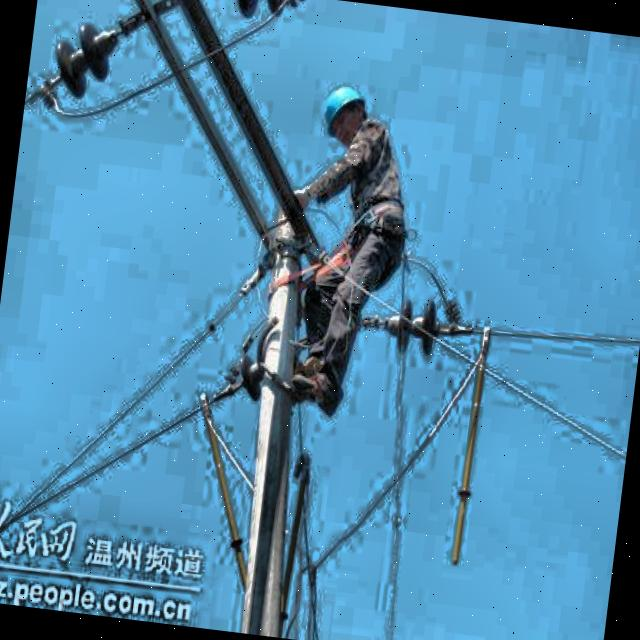helmet: (314, 78, 374, 150)
